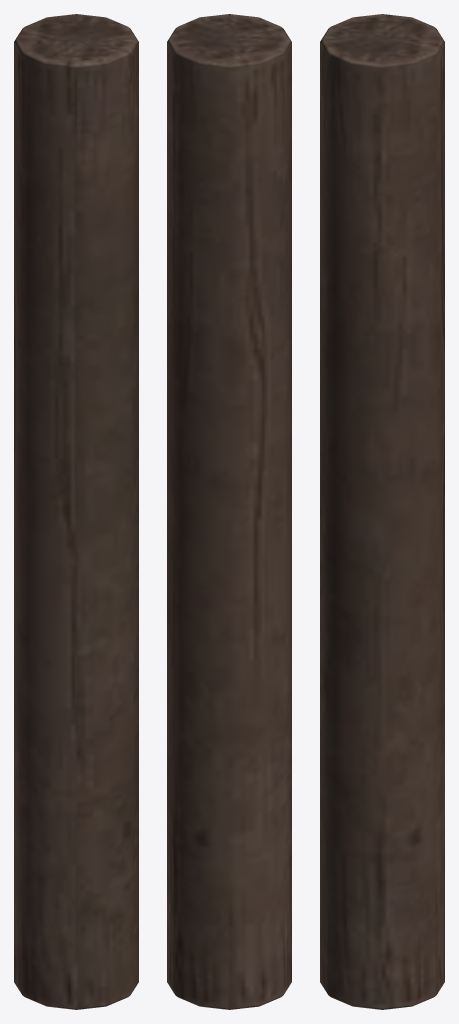
File: Fencepost.glb
The picture shows the model from 3 angles, left to right: view 1: azimuth 90°, elevation 25°; view 2: azimuth 210°, elevation 25°; view 3: azimuth 270°, elevation 25°; orthographic projection.
Visible parts, largest first — view 1: Fencepost; view 2: Fencepost; view 3: Fencepost.
Boxes of the visible parts, box(x1,y1,x2,y2) form: Fencepost: box(14, 14, 138, 1009); Fencepost: box(167, 14, 291, 1009); Fencepost: box(320, 14, 444, 1009).
Size of the model in its own units: 0.1423 by 1.19 by 0.1423.
1 material, 1 textured.
